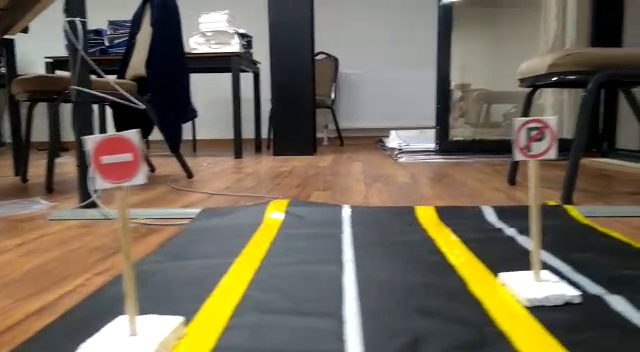girisi_olmayan_yol: (91, 134, 147, 184)
park_yapilmaz: (513, 117, 557, 158)
